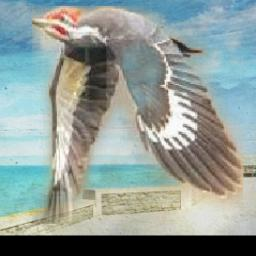Woodpecker: (31, 7, 242, 225)
